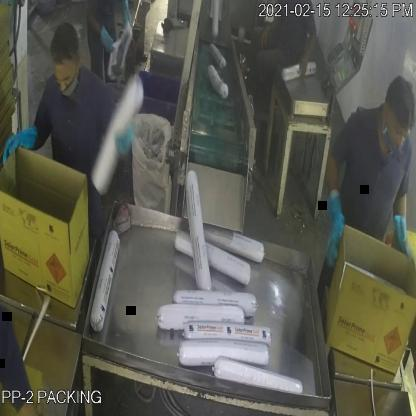glove: (0, 117, 47, 171), (320, 183, 348, 268)
no_glove: (250, 10, 290, 51), (298, 30, 325, 86)
